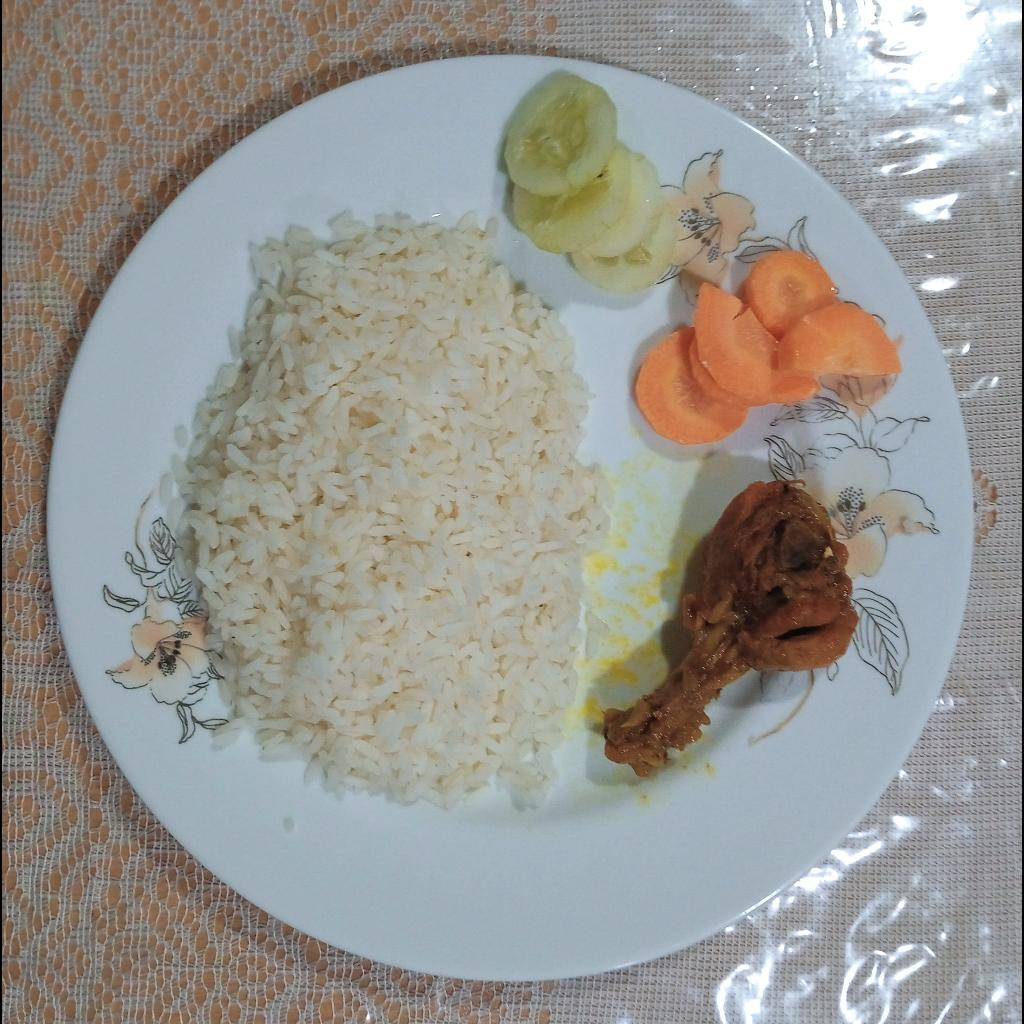carrot: (636, 250, 901, 446)
chicken: (608, 479, 856, 777)
cucumber: (506, 73, 678, 297)
rice: (163, 214, 608, 808)
